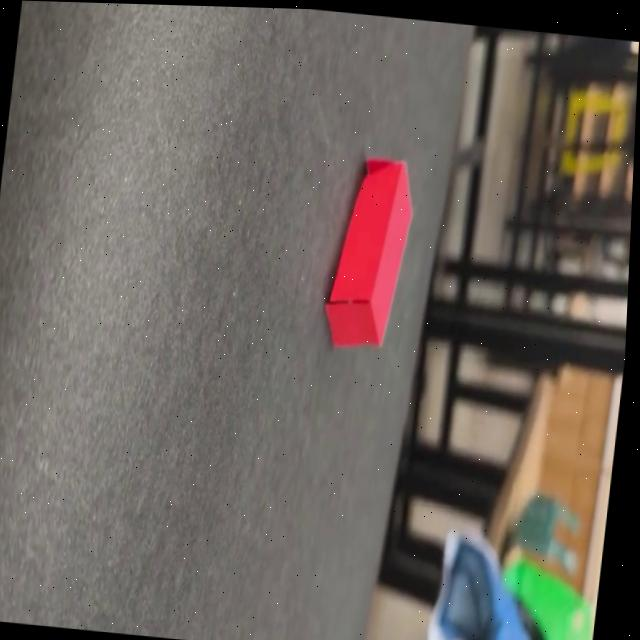red block: (319, 152, 420, 354)
